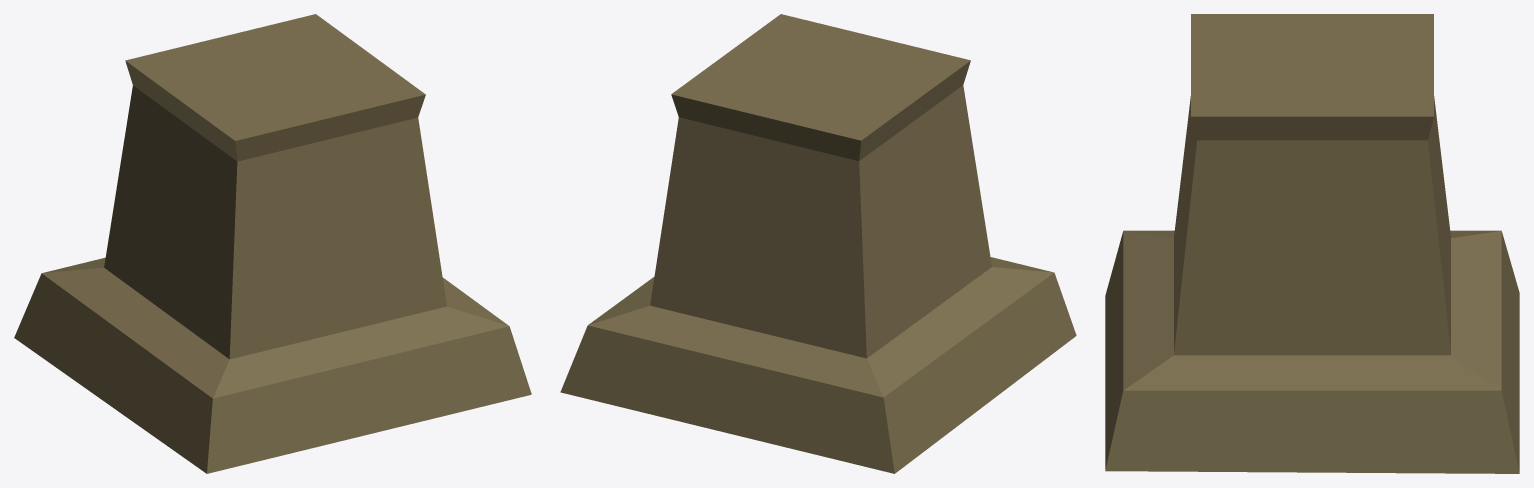
Rendered from Piedestal.fbx.
3 views of the same model, side by side, from view 1: azimuth 30°, elevation 25°; view 2: azimuth 150°, elevation 25°; view 3: azimuth 270°, elevation 25° (orthographic). The views are drawn at different scales.
Parts seen in each view (by area): view 1: Piedestal; view 2: Piedestal; view 3: Piedestal.
Boxes of the visible parts, x1,y1,x2,y2 form: Piedestal: (14,14,531,473); Piedestal: (560,14,1076,473); Piedestal: (1105,14,1519,473).
Bounding box in the file's own units: 2.06 × 1.69 × 2.
